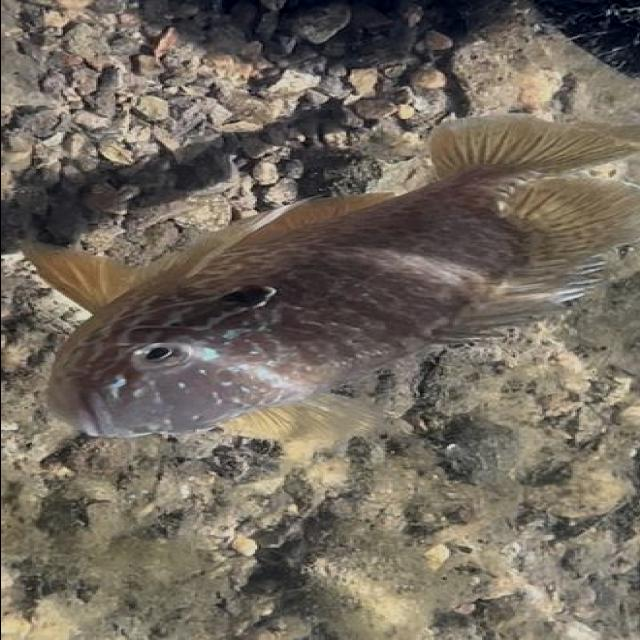Gunes Levregi: (11, 107, 638, 447)
